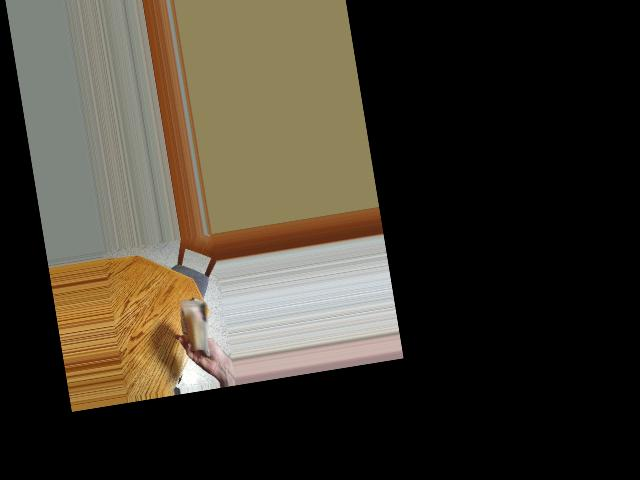cheese: (171, 297, 218, 355)
